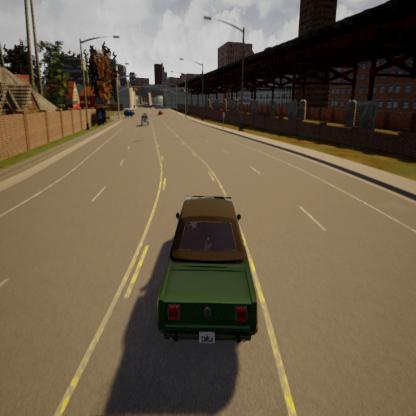Cars: (159, 196, 258, 348), (124, 106, 136, 118), (140, 112, 150, 126), (158, 107, 163, 116)
